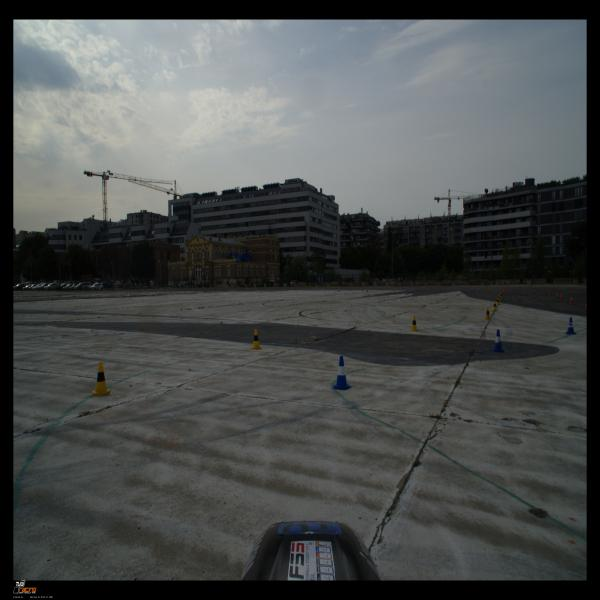blue_cone: (331, 356, 352, 390), (491, 329, 506, 353), (564, 317, 578, 335)
orange_cone: (570, 295, 574, 304), (559, 292, 563, 300), (556, 291, 560, 298), (584, 300, 586, 311), (471, 286, 474, 292), (501, 290, 504, 296), (549, 289, 552, 295), (427, 286, 430, 291), (462, 286, 464, 292), (487, 287, 489, 293), (502, 288, 504, 294), (338, 287, 340, 292), (434, 286, 436, 291), (508, 287, 510, 292), (534, 288, 536, 293), (361, 287, 363, 291), (366, 288, 368, 292), (393, 287, 395, 291), (396, 286, 398, 290)
yellow_cone: (90, 362, 113, 397), (249, 329, 263, 350), (410, 316, 419, 332), (484, 307, 491, 320), (492, 302, 498, 312), (496, 297, 500, 306), (498, 294, 502, 301), (499, 292, 502, 300)
